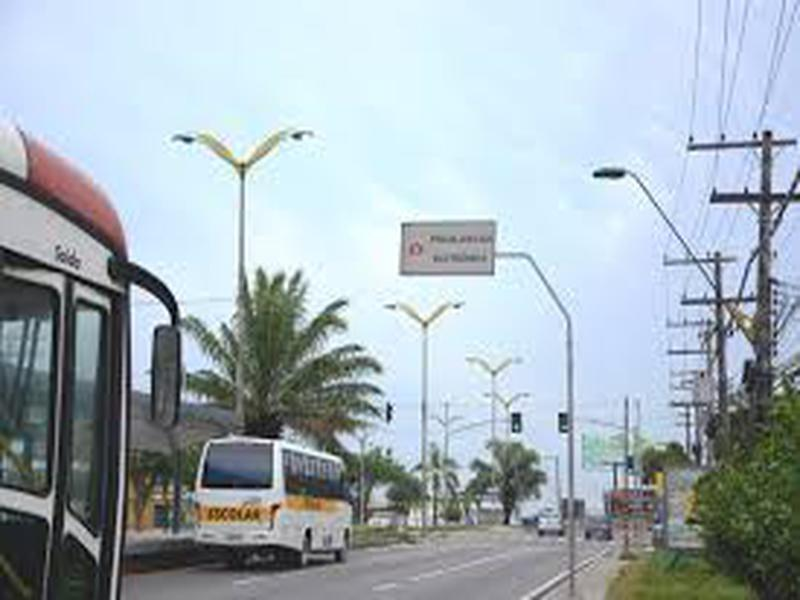IP: (591, 156, 737, 308), (244, 122, 322, 175), (163, 127, 243, 175), (429, 293, 472, 326), (383, 295, 423, 326), (497, 353, 528, 379), (459, 352, 489, 378)
